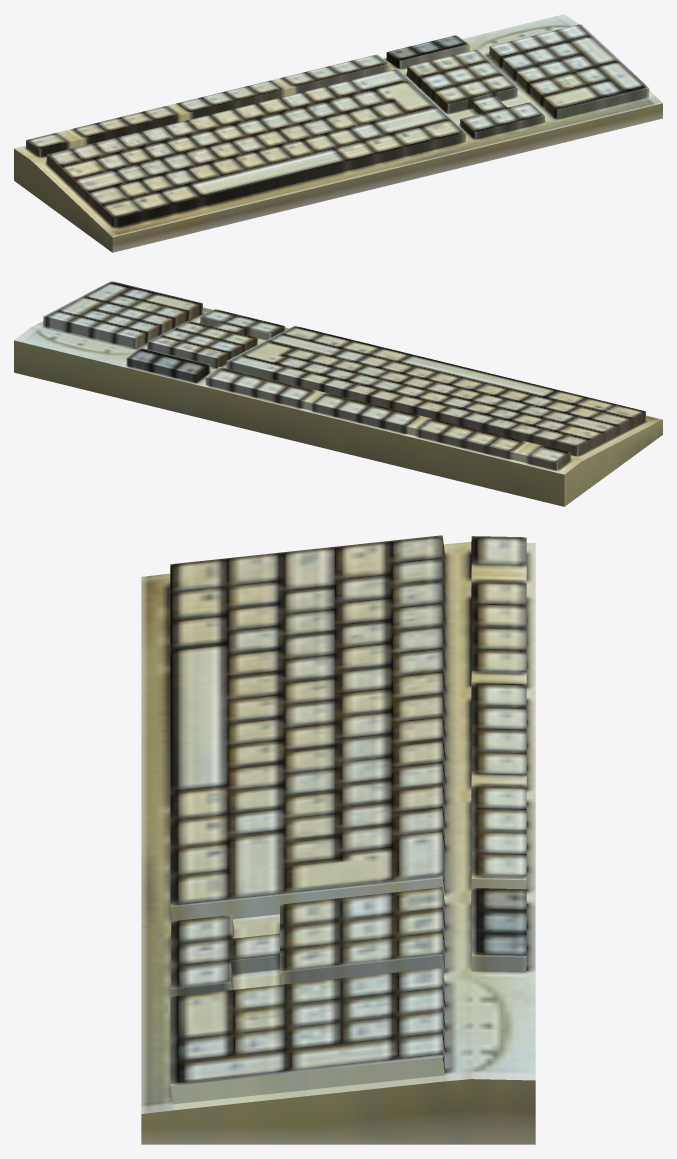
The model's file is keyboard.glb.
3 renders of one model, top to bottom at view 1: azimuth 30°, elevation 25°; view 2: azimuth 150°, elevation 25°; view 3: azimuth 270°, elevation 25°, orthographic. The views are drawn at different scales.
Parts seen in each view (by area): view 1: keyboard_Material.006_0; view 2: keyboard_Material.006_0; view 3: keyboard_Material.006_0.
Part boxes in pixels (box(x1,y1,x2,y2)): keyboard_Material.006_0: box(14, 14, 662, 252); keyboard_Material.006_0: box(14, 281, 662, 506); keyboard_Material.006_0: box(141, 535, 535, 1144).
Bounding box in the file's own units: 0.6845 × 0.0485 × 0.2123.
Materials: 1 (1 with a texture image).
